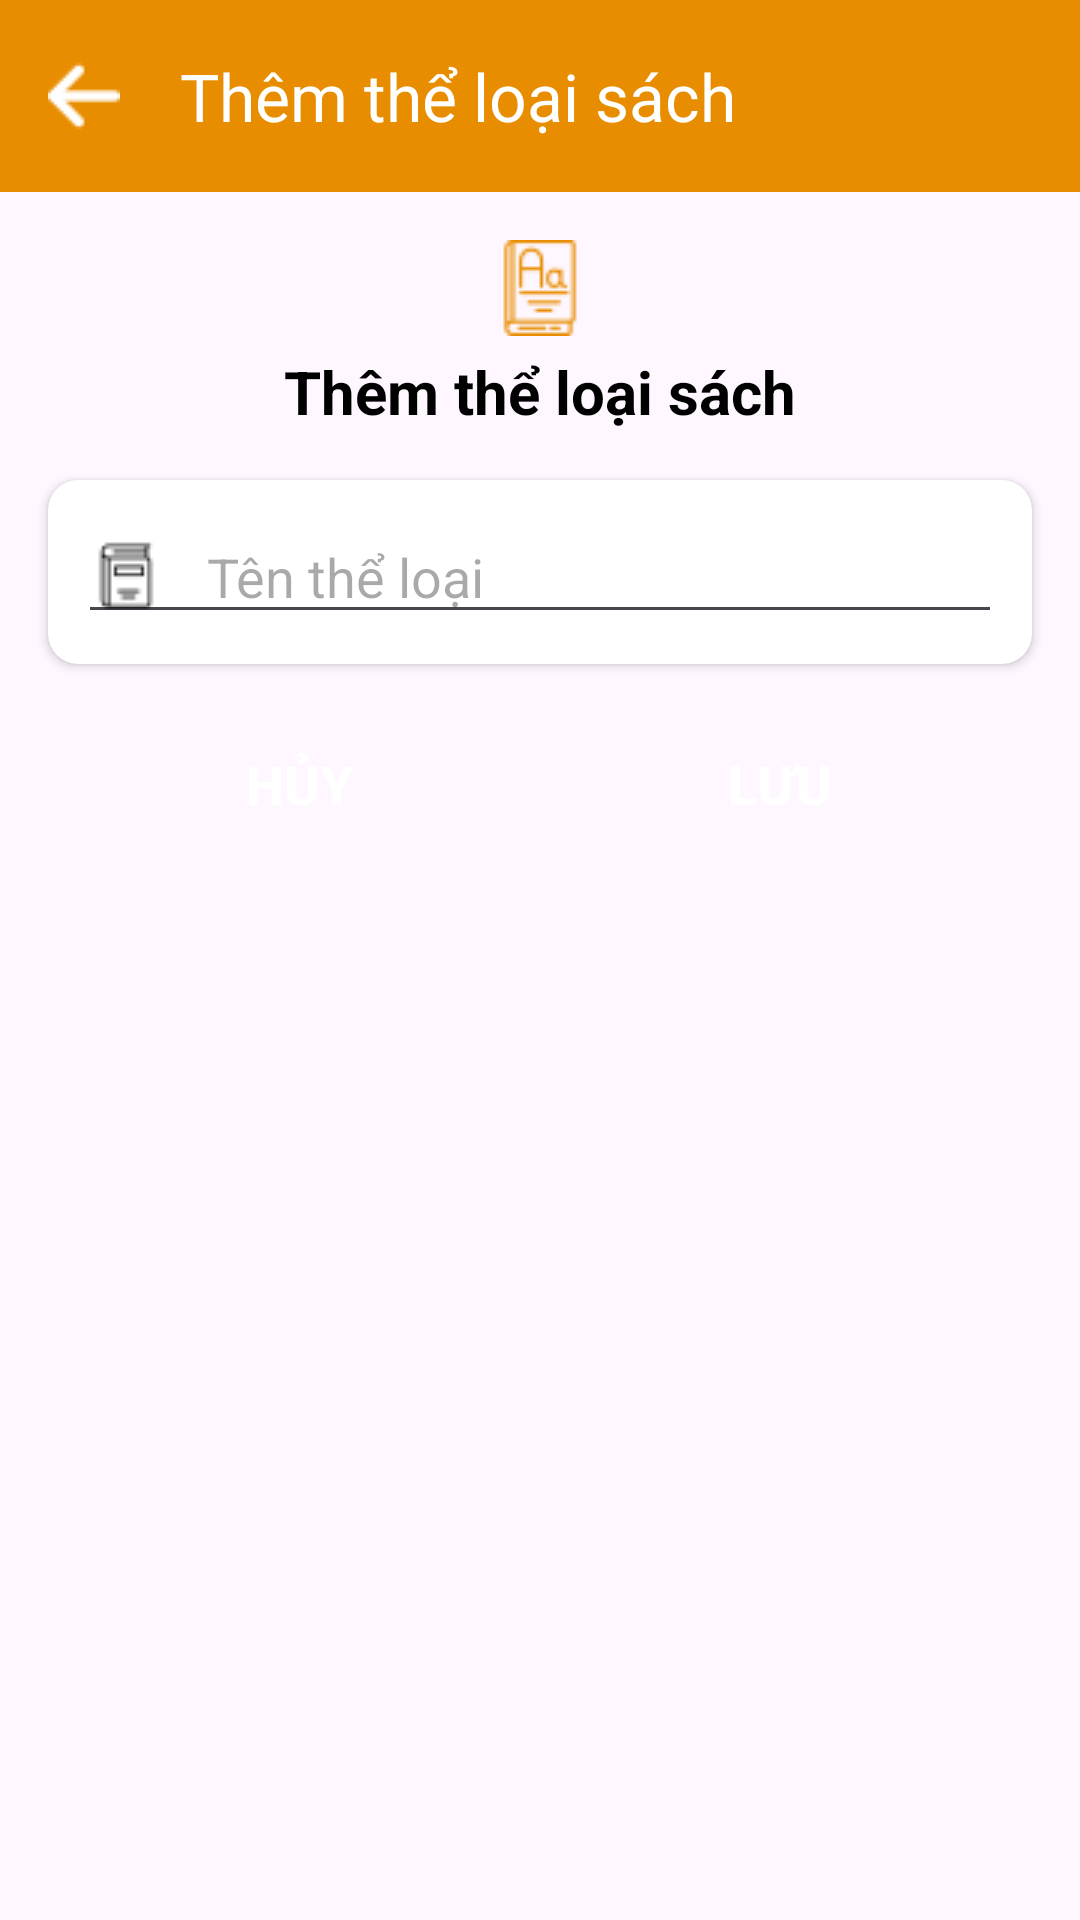

Screen size 1080px×1920px. Icon name, then its box in pixels as BBox(x1, y1, x2, y2):
categorybook: BBox(503, 240, 577, 336)
